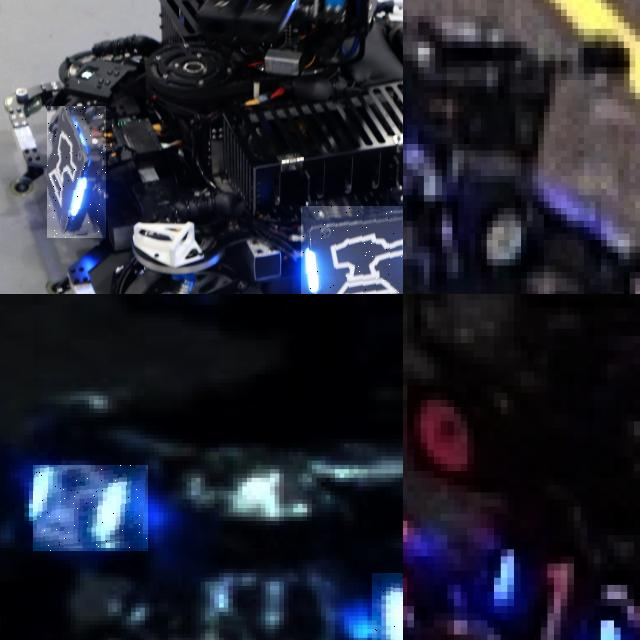B1: (460, 535, 627, 640)
Bs: (34, 465, 150, 551), (301, 205, 403, 294), (48, 106, 108, 238)
